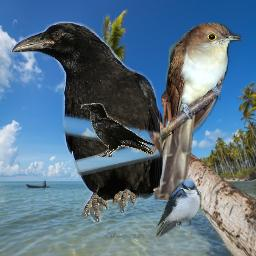Crow: (10, 21, 166, 222), (81, 103, 155, 157)
Cuckoo: (154, 21, 241, 200)
Swallow: (154, 178, 202, 237)
